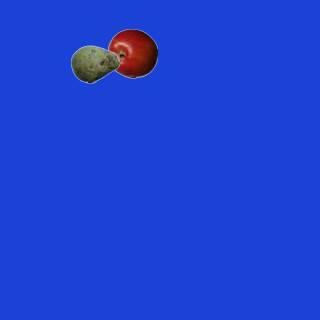Apple Braeburn: (107, 28, 157, 78)
Pear Stone: (70, 39, 120, 89)
